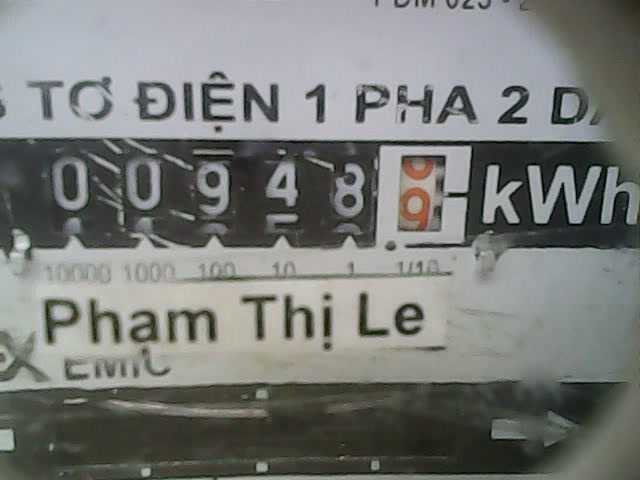phy_plate: (34, 138, 479, 249)
